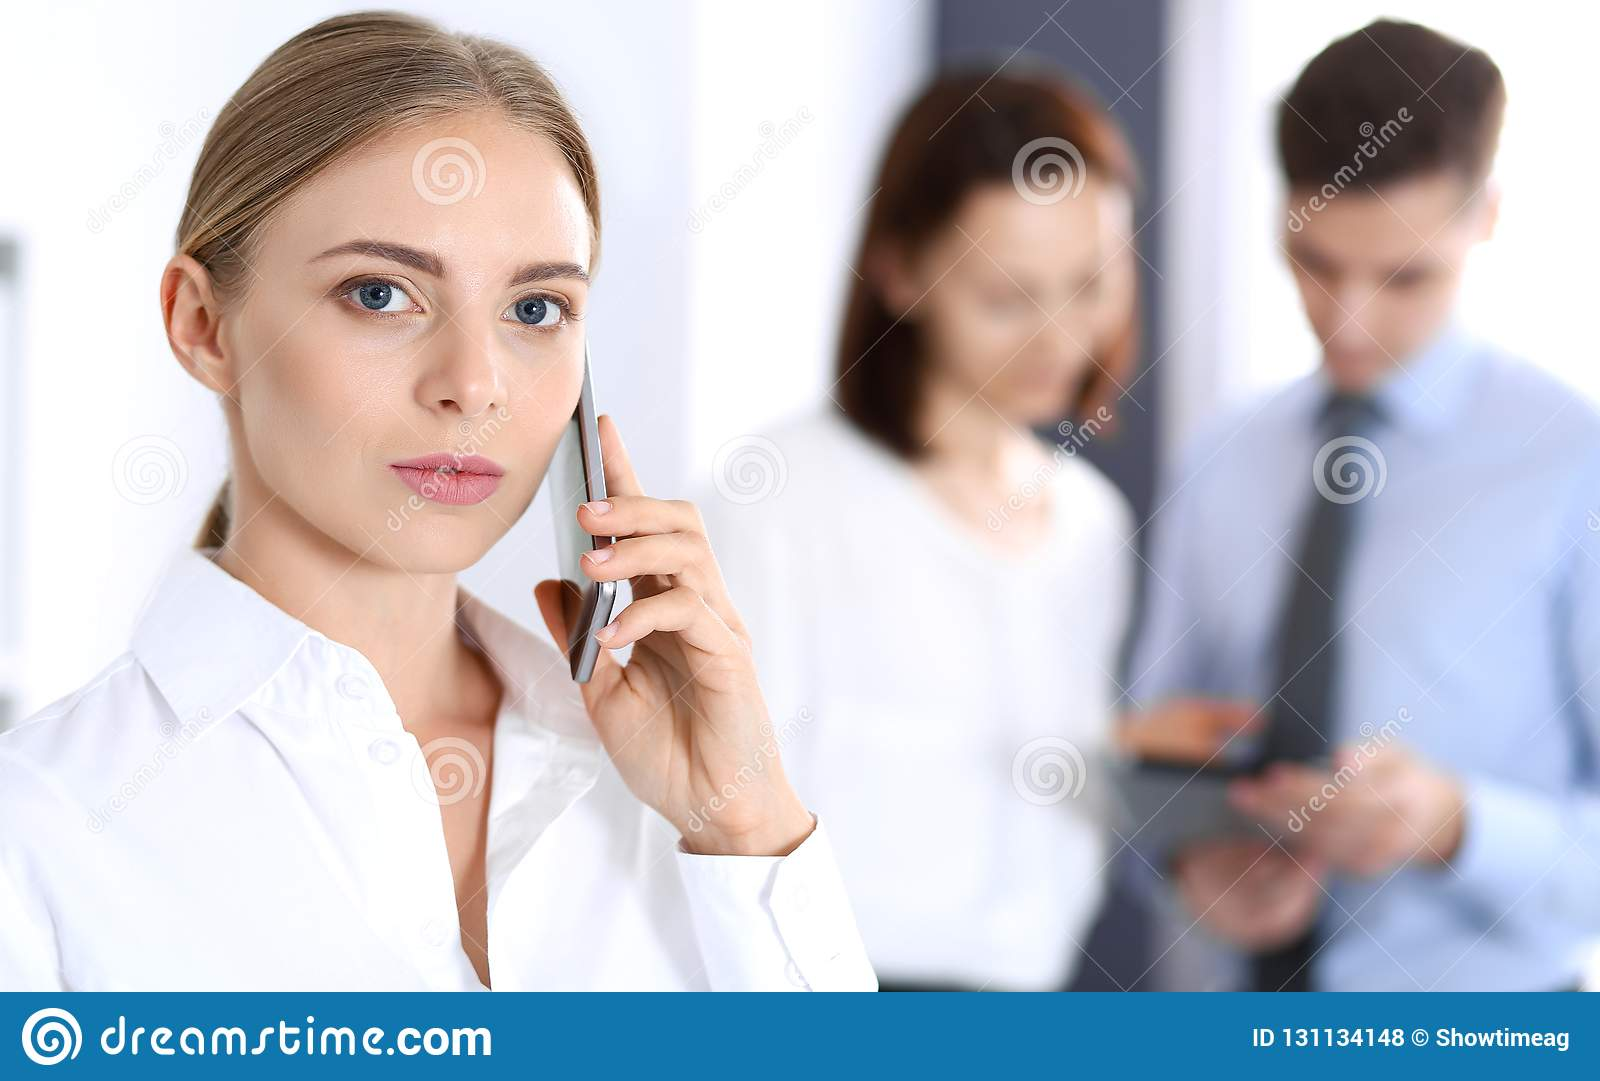phone: (544, 338, 618, 683)
talk: (290, 223, 776, 834)
